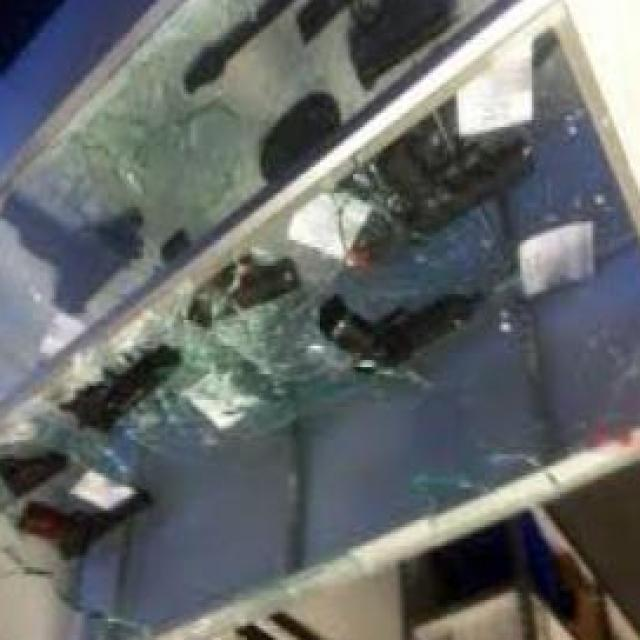pistol: (33, 327, 191, 461), (376, 130, 548, 250), (314, 287, 482, 407), (162, 218, 302, 355), (15, 476, 160, 600)
